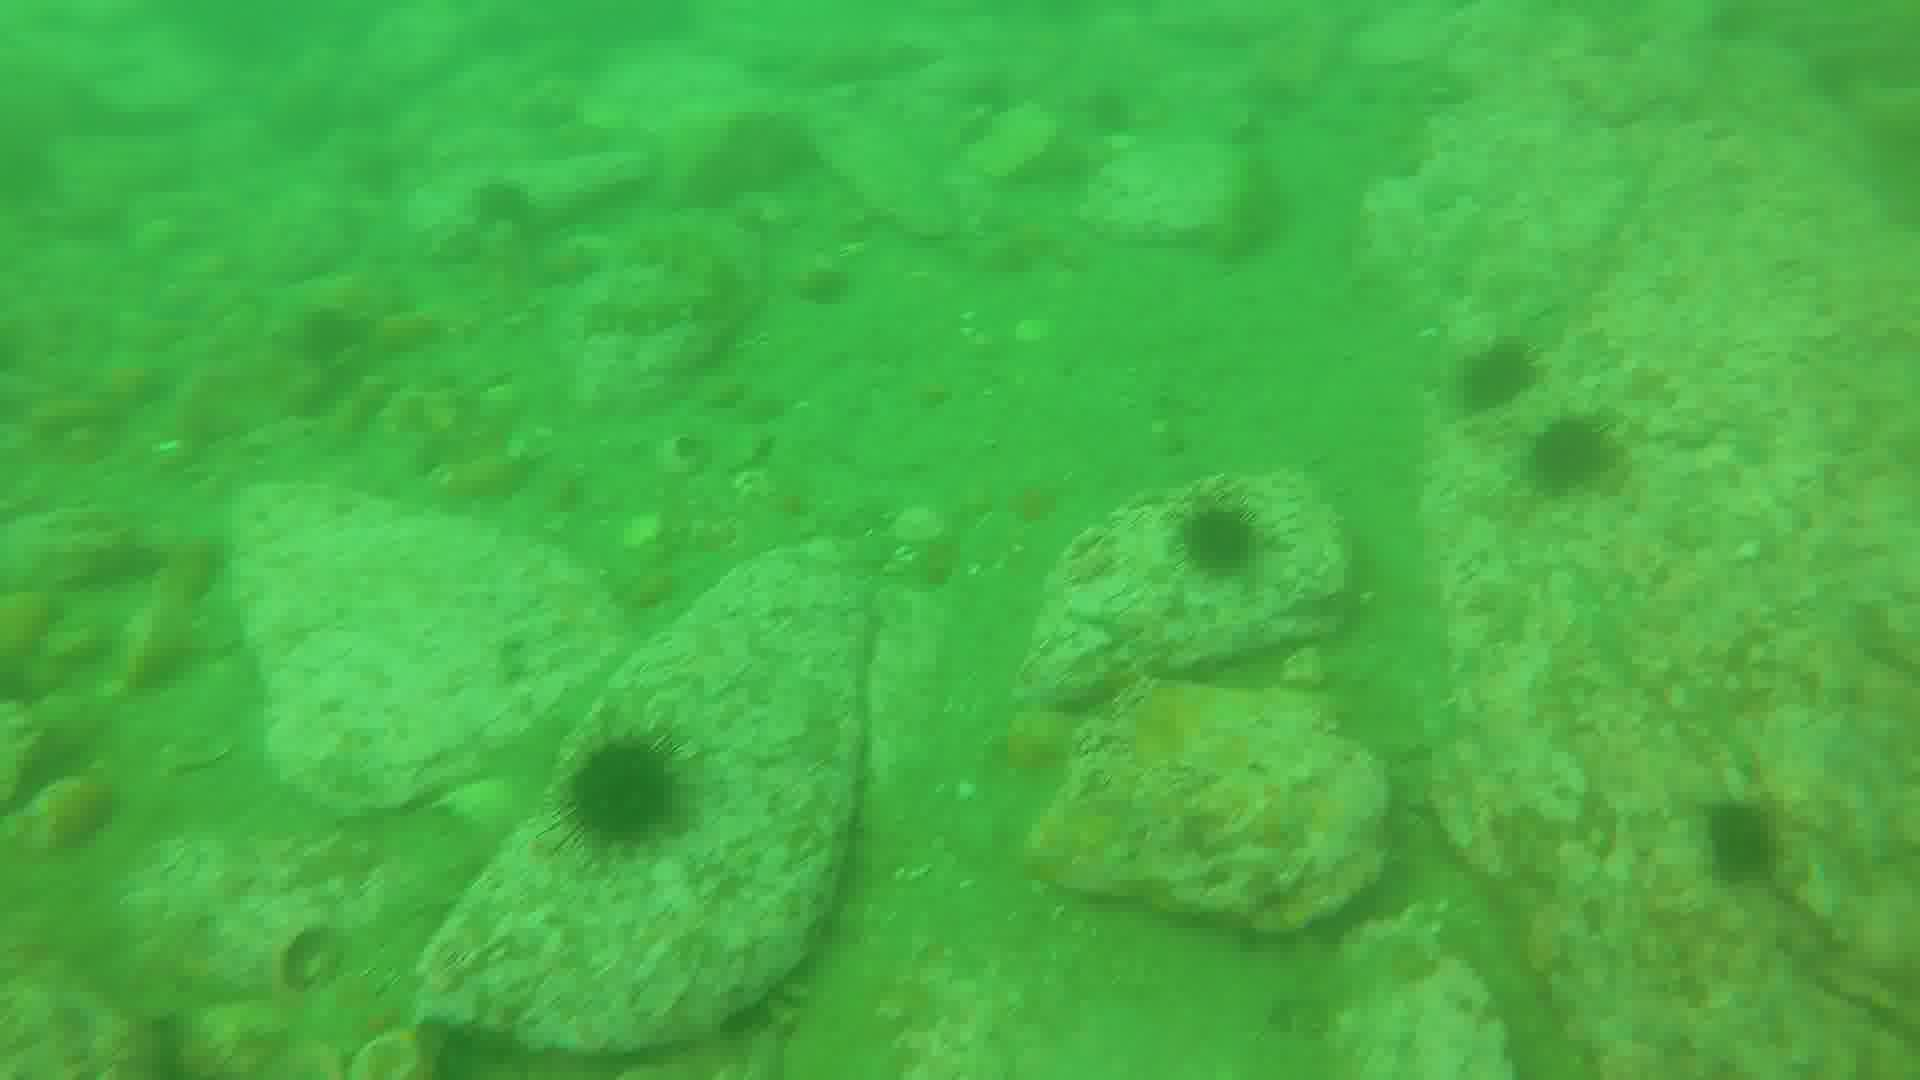echinus: (564, 731, 676, 843), (1531, 411, 1618, 492), (1697, 796, 1776, 881), (1458, 345, 1545, 419), (1183, 502, 1262, 582)
